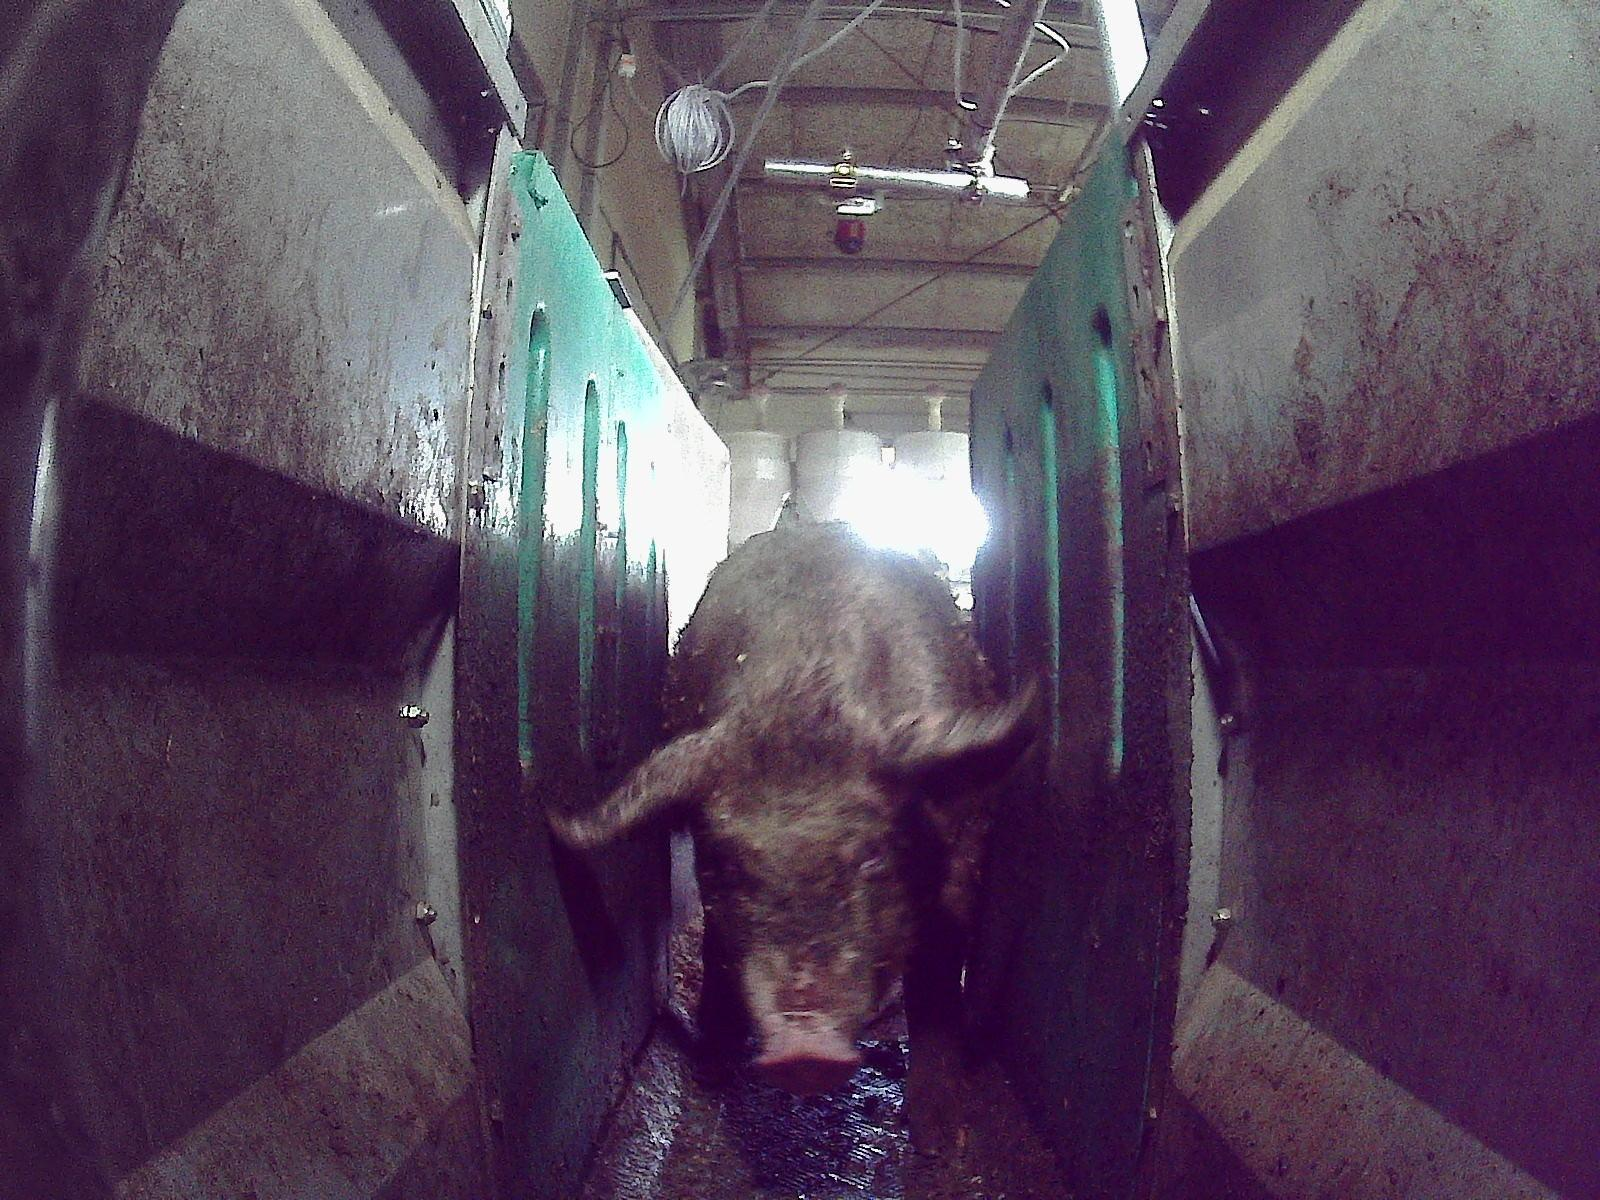Face: (688, 697, 918, 1093)
